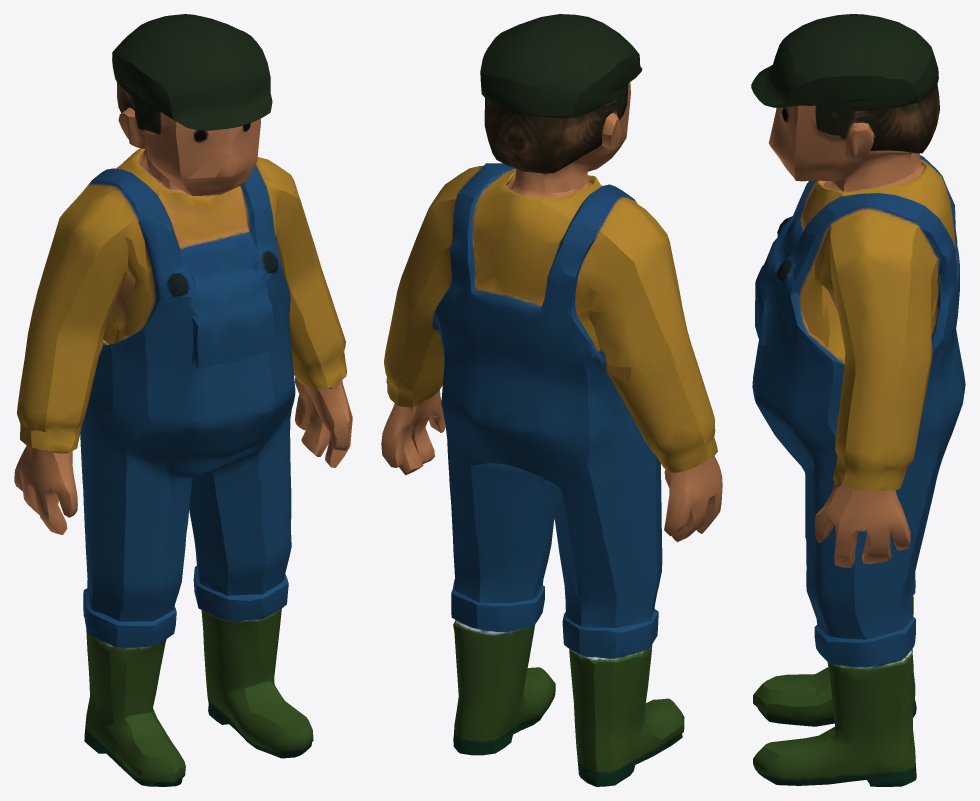
Rendered from CHAR_07.glb.
3 views of the same model, side by side, from view 1: azimuth 30°, elevation 25°; view 2: azimuth 150°, elevation 25°; view 3: azimuth 270°, elevation 25° (orthographic).
Parts seen in each view (by area): view 1: world; view 2: world; view 3: world.
Boxes of the visible parts, <box> form: world: <box>14,14,352,786</box>; world: <box>381,14,722,786</box>; world: <box>751,14,965,786</box>.
Bounding box in the file's own units: 0.467 × 1 × 0.2687.
Materials: 1 (1 with a texture image).
